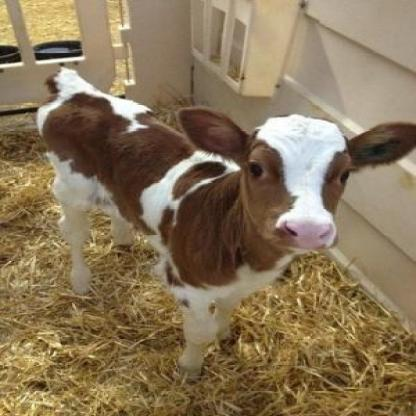cow: (37, 65, 416, 381)
